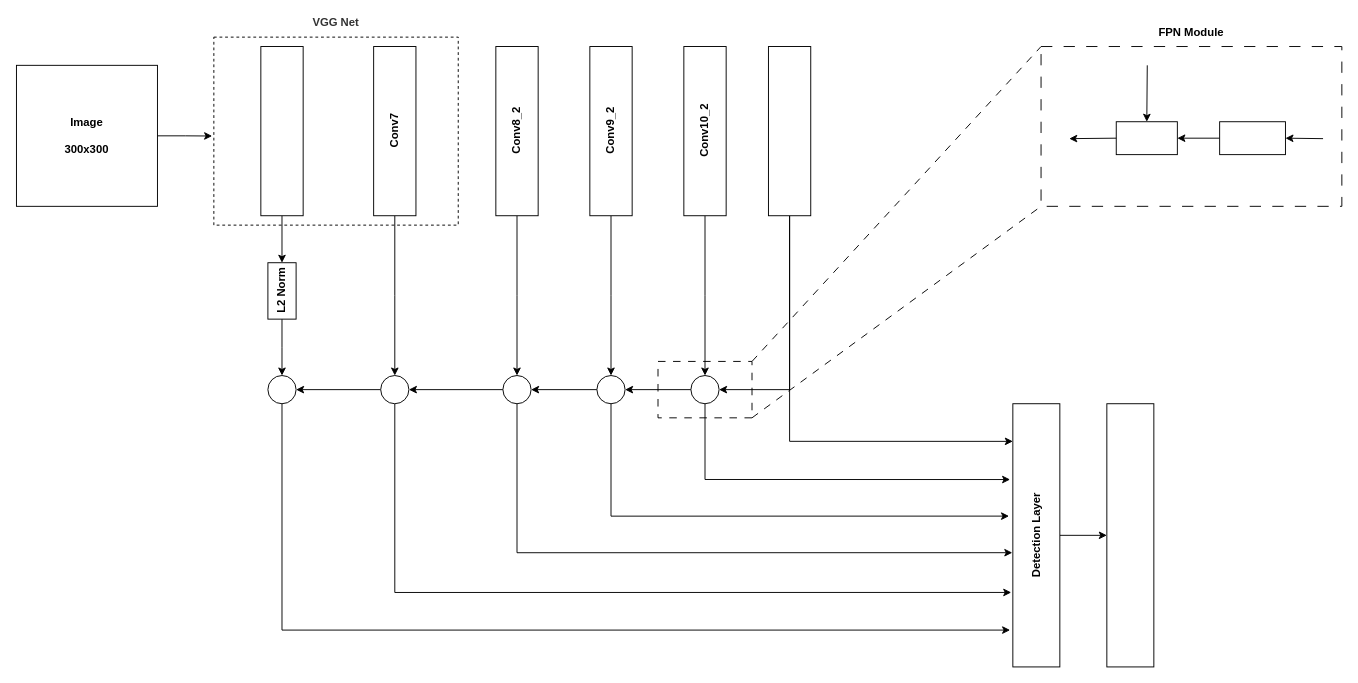
Image size: 1358x683. Some labels were removed from this diagram. Each missing label, with the centre of its shape:
Conv11_2: point (789, 131)
Conv4_3: point (281, 131)
ELT sum: point (1146, 138)
Nonmaximum Suppression: point (1130, 535)
Upsample: point (1252, 138)
